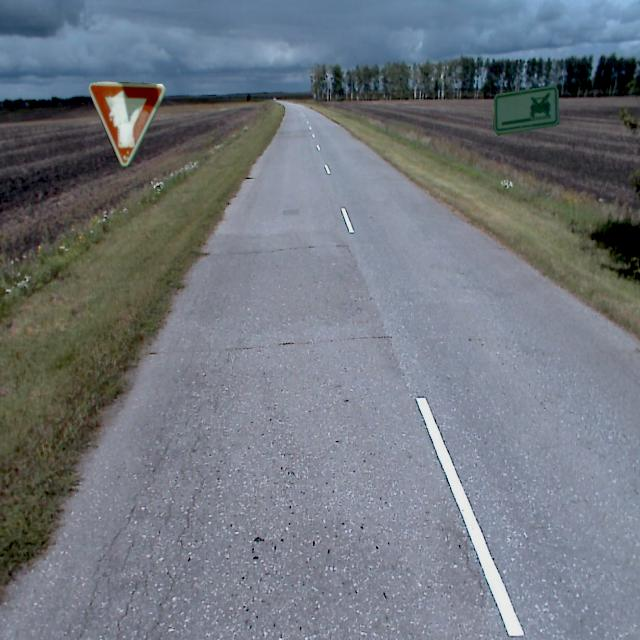road: (0, 107, 639, 639)
